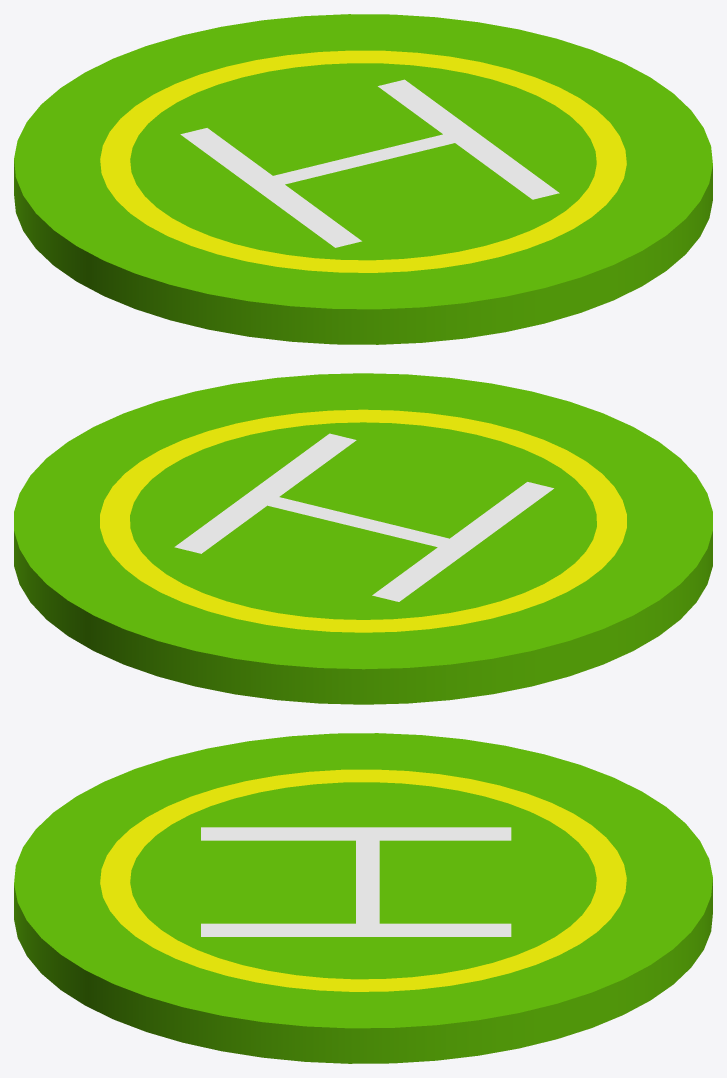
The model's file is 停机坪.fbx.
3 views of the same model, one above another, from view 1: azimuth 30°, elevation 25°; view 2: azimuth 150°, elevation 25°; view 3: azimuth 270°, elevation 25° (orthographic).
Parts seen in each view (by area): view 1: Group1; view 2: Group1; view 3: Group1.
Part boxes in pixels (<box>): Group1: <box>14,14,712,344</box>; Group1: <box>14,373,712,704</box>; Group1: <box>14,733,712,1063</box>.
Bounding box in the file's own units: 766 × 42.93 × 766.
